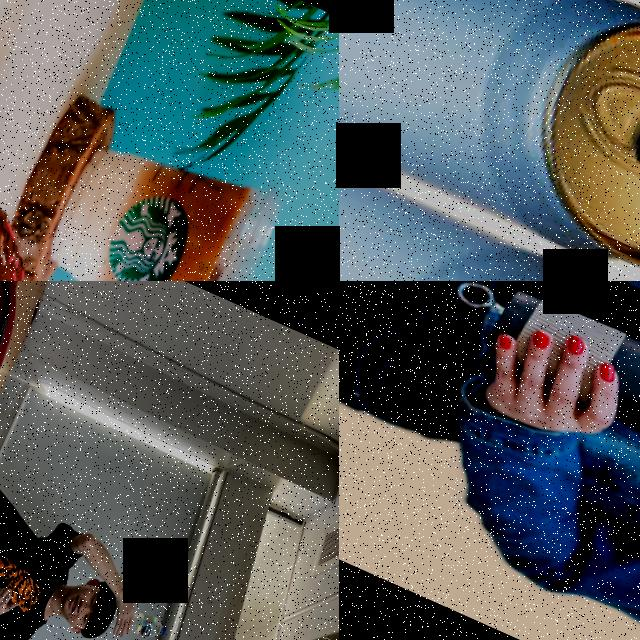bottle: (106, 600, 168, 640)
can: (339, 0, 640, 281), (339, 83, 640, 281)
cup: (25, 109, 295, 281), (473, 281, 640, 469)
